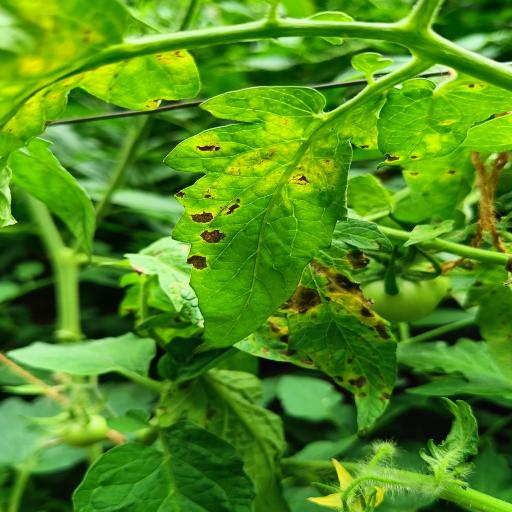Early Blight: (160, 85, 377, 355), (278, 258, 401, 440), (373, 75, 488, 173)
